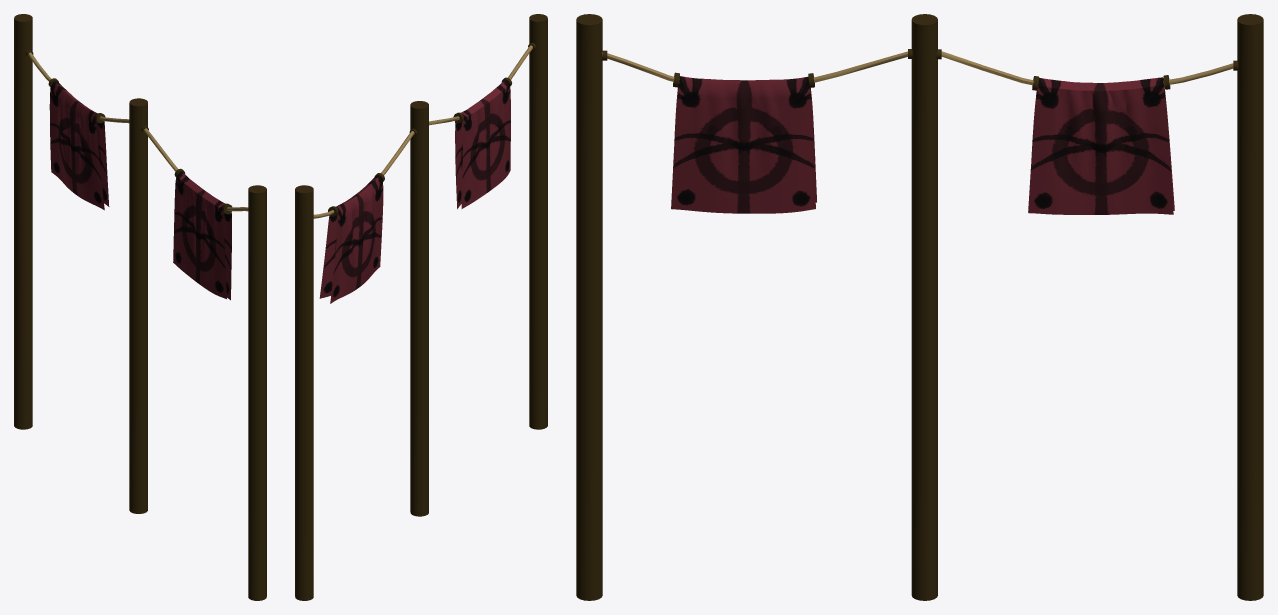
Rendered from flag.fbx.
The picture shows the model from 3 angles, left to right: view 1: azimuth 30°, elevation 25°; view 2: azimuth 150°, elevation 25°; view 3: azimuth 270°, elevation 25°; orthographic projection. The views are drawn at different scales.
Visible parts, largest first — view 1: Cylinder, Cylinder_1, Cylinder_2, Plane, Plane_2_3, Sweep; view 2: Cylinder_2, Cylinder, Cylinder_1, Plane_2_3, Plane, Sweep; view 3: Plane, Plane_2_3, Cylinder, Cylinder_2, Cylinder_1, Sweep.
Part boxes in pixels (x1,y1,x2,y2): Cylinder: (248, 185, 266, 600); Cylinder_1: (129, 98, 147, 513); Cylinder_2: (14, 14, 32, 429); Plane: (173, 171, 231, 300); Plane_2_3: (49, 81, 109, 210); Sweep: (28, 52, 248, 211); Cylinder_2: (295, 185, 313, 600); Cylinder: (529, 14, 547, 429); Cylinder_1: (410, 101, 428, 516); Plane_2_3: (319, 176, 383, 303); Plane: (455, 80, 510, 209); Sweep: (313, 45, 532, 218); Plane: (671, 76, 816, 213); Plane_2_3: (1028, 77, 1174, 214); Cylinder: (576, 14, 602, 600); Cylinder_2: (1237, 14, 1263, 600); Cylinder_1: (911, 14, 937, 600); Sweep: (602, 51, 1233, 86).
Bounding box in the file's own units: 11.38 × 220 × 238.
Materials: 3 (1 with a texture image).
